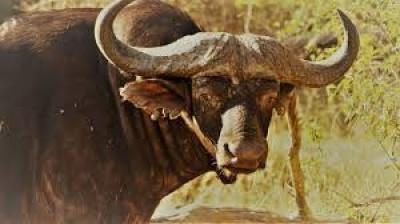buffalo: (0, 0, 358, 223)
